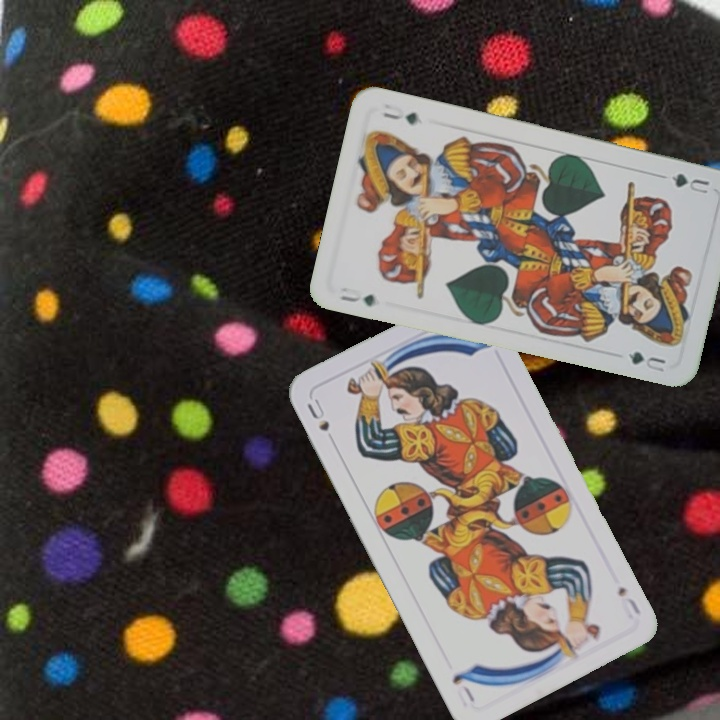GU: (667, 169, 712, 197), (336, 283, 379, 309)
SU: (613, 583, 643, 622), (303, 394, 332, 434)
